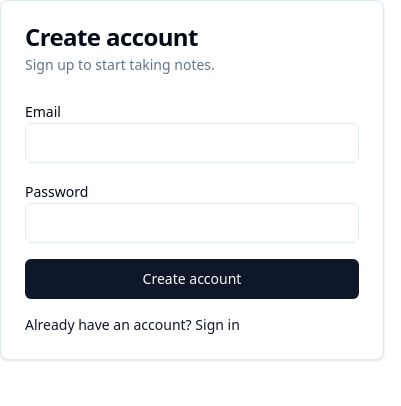
auth-ui › Registration screen › blocks submit when the password fails the policy
Type "new@b.com" into the field labelled "Email".
click(192, 143); type("new@b.com")  # box [25,123,359,163]
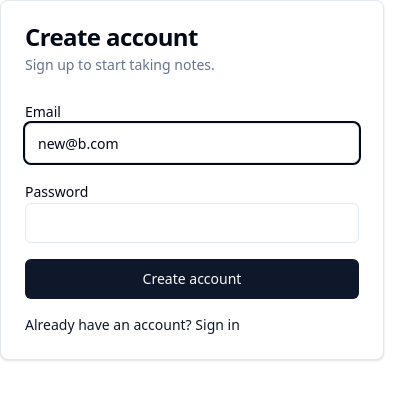
Type "short" into the password field labelled "Password".
click(192, 223); type("short")  # box [25,203,359,243]
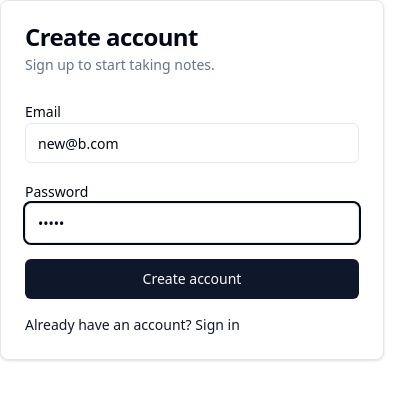
Click the button "Create account".
click(192, 279)  # box [25,259,359,299]
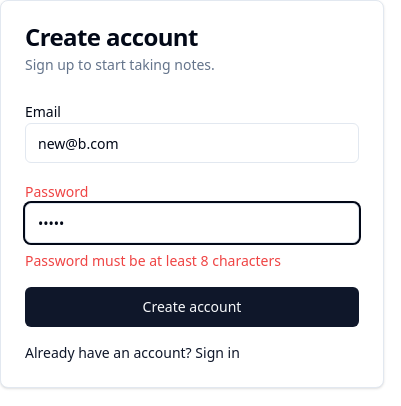
Expected: the message "Password must be at least 8 characters" is shown, [25,251,281,270]
